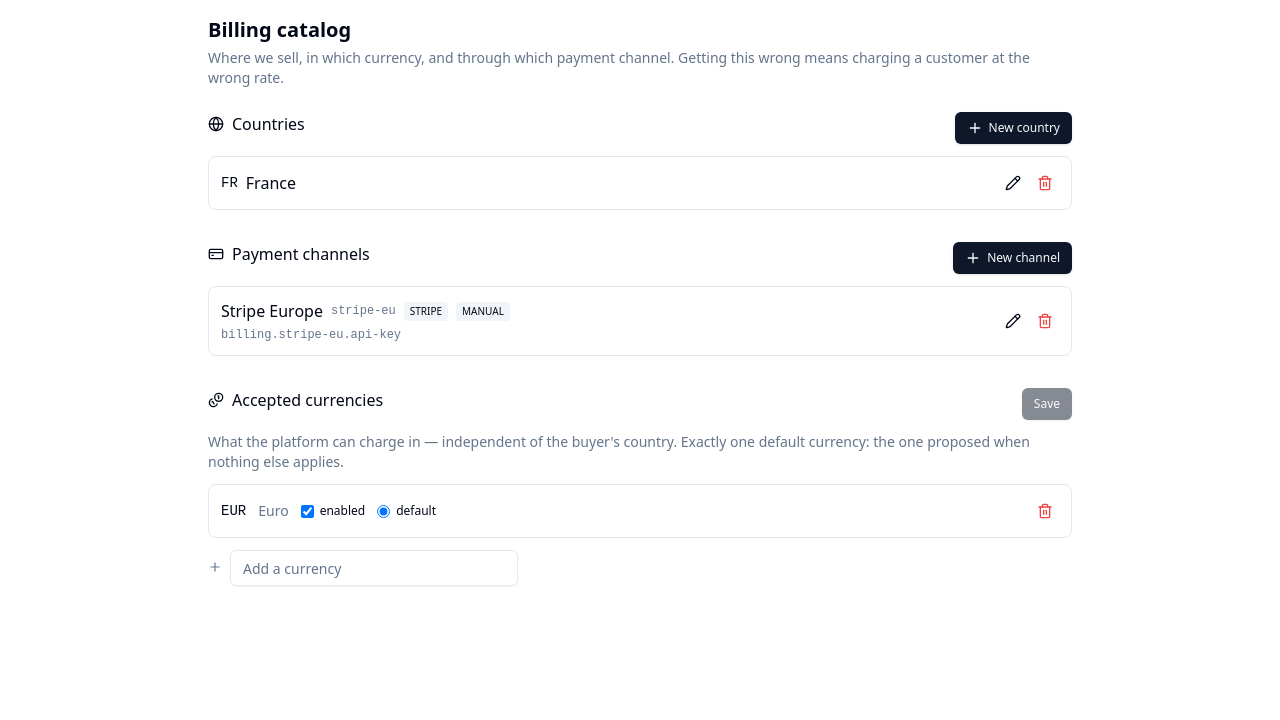
Scenario: AdminBillingCatalog › propose un formulaire Stripe typé, pas un sac de clés libres
Click the button named "Edit channel". click: (1013, 321)
box: [999,307,1027,335]
(page scrolled)
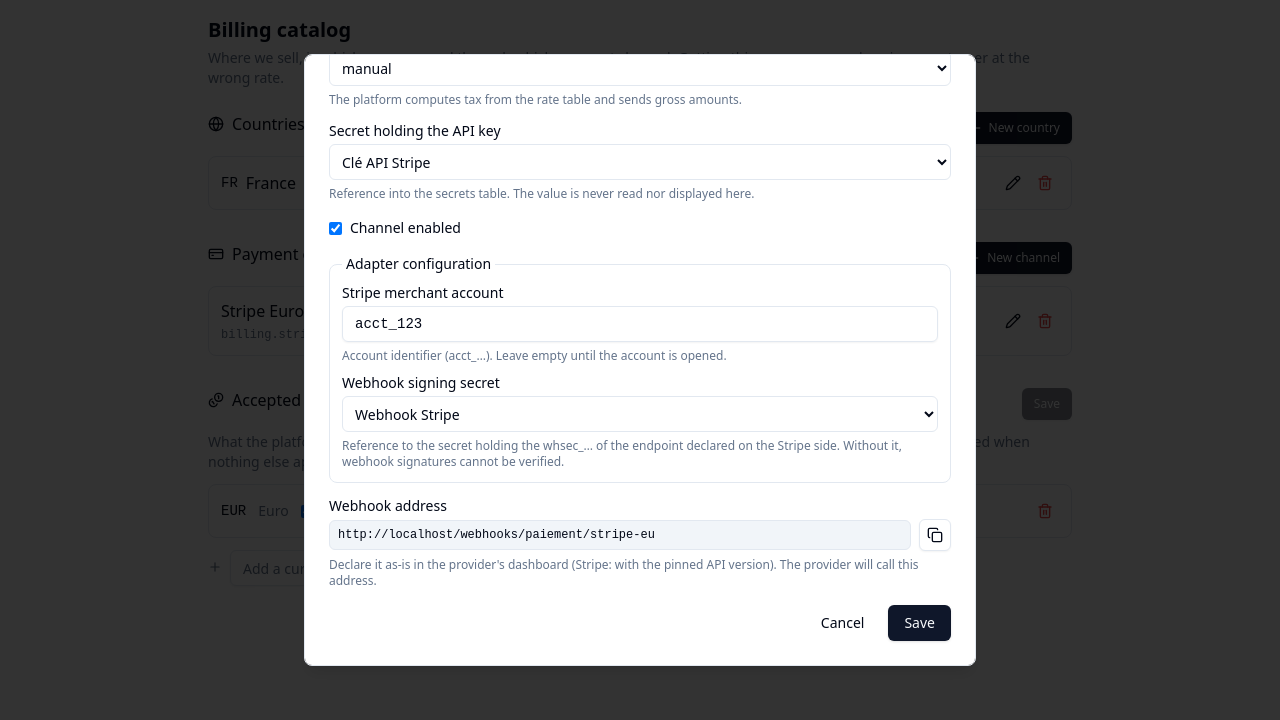
Expected: the field labelled "Stripe merchant account" holds "acct_123", [342,306,938,342]
Expected: the dropdown labelled "Webhook signing secret" shows "Webhook Stripe", [342,396,938,432]
